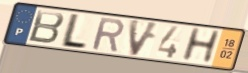4: (156, 24, 181, 61)
B: (26, 9, 66, 46)
H: (179, 26, 223, 64)
L: (57, 12, 90, 51)
R: (90, 16, 125, 54)
V: (128, 17, 162, 58)
